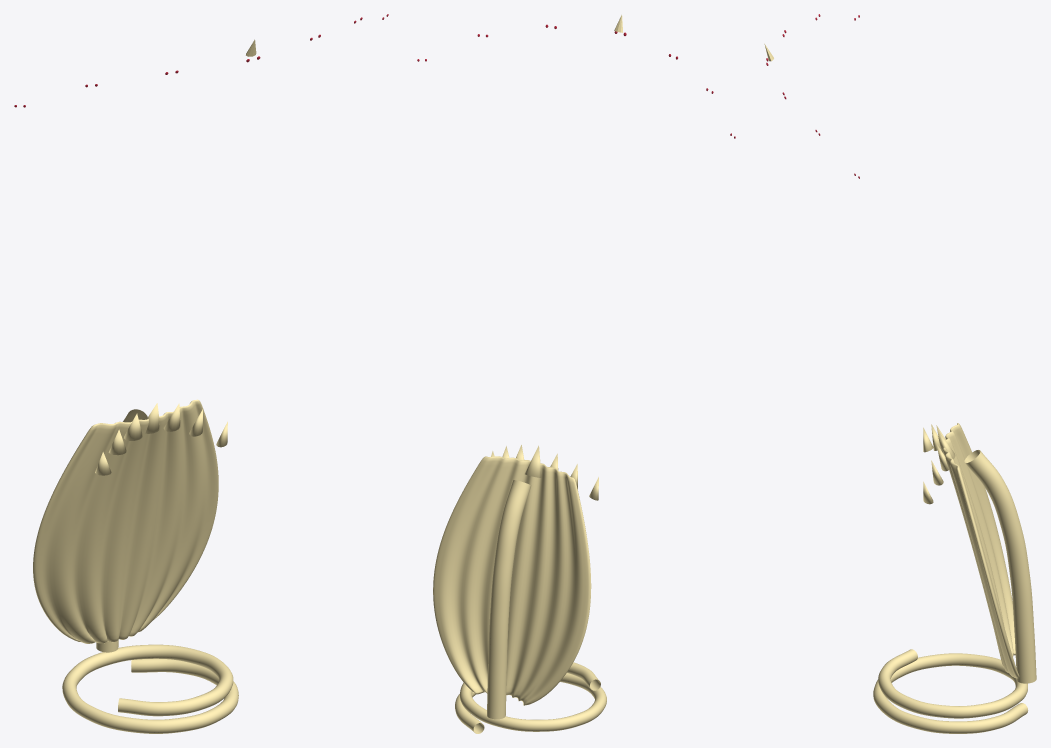
Rendered from sheshanaga_gold_canopy.glb.
3 renders of one model, left to right at view 1: azimuth 30°, elevation 25°; view 2: azimuth 150°, elevation 25°; view 3: azimuth 270°, elevation 25°, orthographic. The views are drawn at different scales.
Visible parts, largest first — view 1: SheshanagaHood, SheshanagaCoils; view 2: SheshanagaHood, SheshanagaSpine, SheshanagaCoils; view 3: SheshanagaCoils, SheshanagaHood, SheshanagaSpine.
Boxes of the visible parts, x1,y1,x2,y2 form: SheshanagaHood: (33, 399, 218, 643); SheshanagaCoils: (62, 644, 238, 733); SheshanagaHood: (433, 456, 591, 705); SheshanagaSpine: (487, 480, 531, 719); SheshanagaCoils: (455, 662, 606, 733); SheshanagaCoils: (873, 649, 1028, 733); SheshanagaHood: (943, 423, 1019, 678); SheshanagaSpine: (964, 450, 1036, 683).
Bounding box in the file's own units: 0.8482 × 1.61 × 0.6022.
